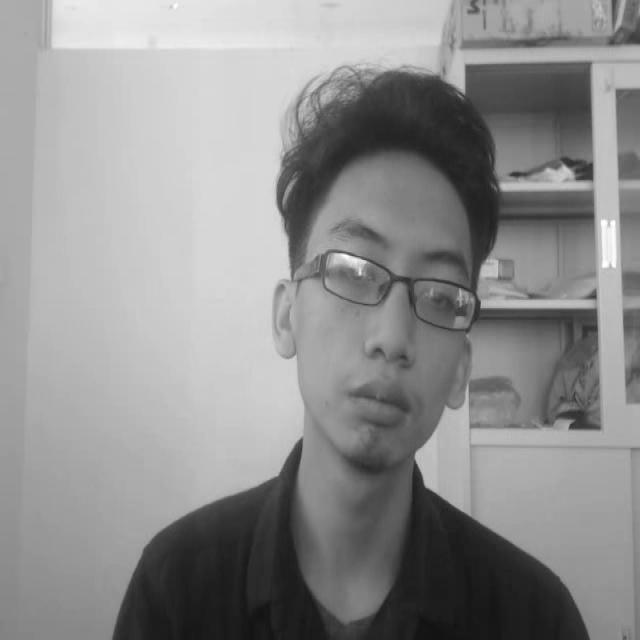real: (252, 51, 500, 485)
